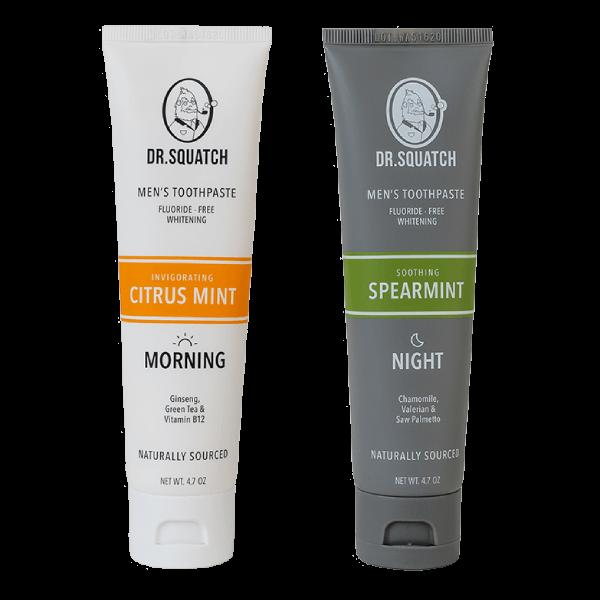toothpaste: (311, 22, 499, 579), (98, 21, 281, 572)
